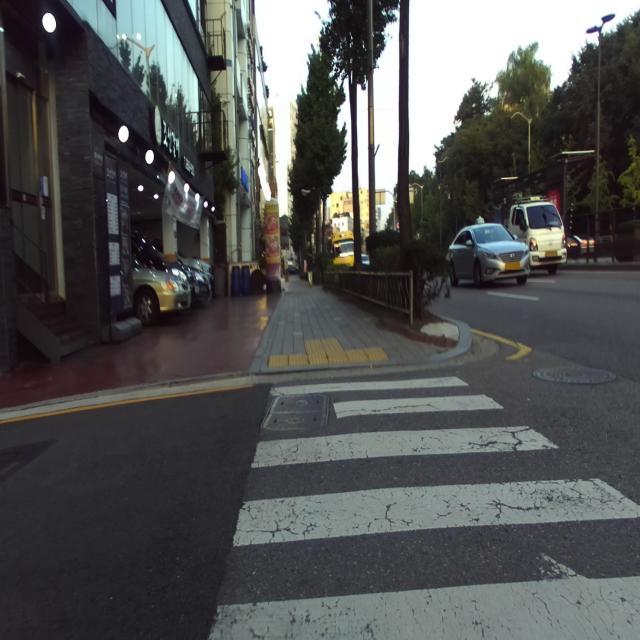횡단보도: (207, 375, 640, 640)
